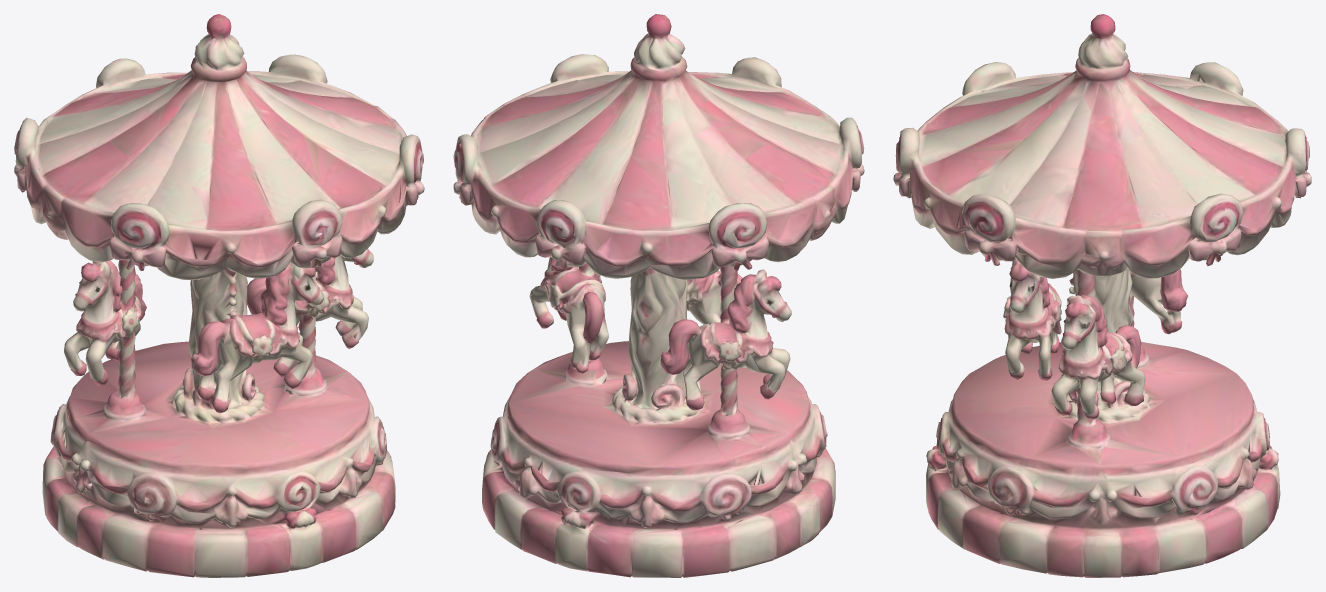
3 renders of one model, left to right at view 1: azimuth 30°, elevation 25°; view 2: azimuth 150°, elevation 25°; view 3: azimuth 270°, elevation 25°, orthographic.
Size of the model in its own units: 1.4 by 1.9 by 1.47.
Materials: 1 (1 with a texture image).
